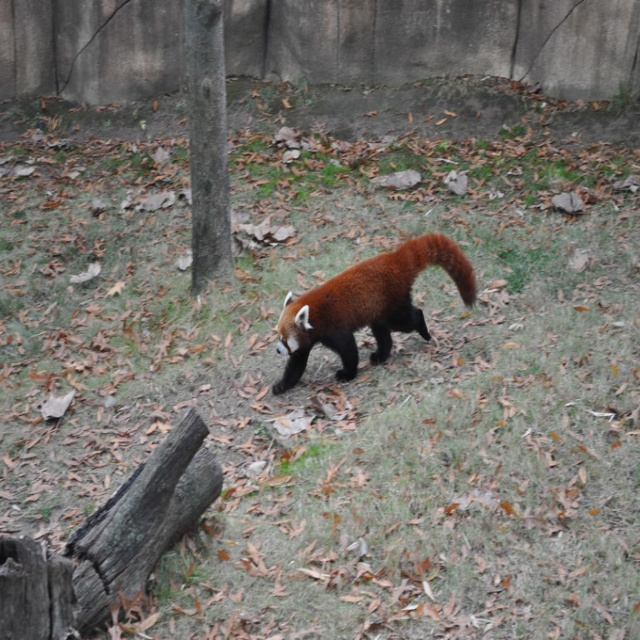Red panda: (271, 231, 476, 395)
